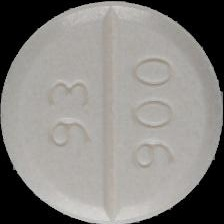68151-2713: (0, 0, 224, 224)
